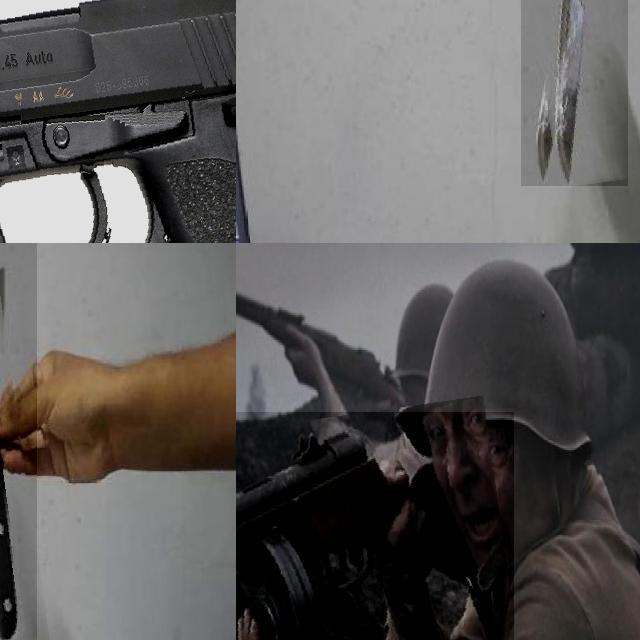-: (521, 0, 628, 186), (0, 243, 39, 640)
gun-knife-thesis - v11 Yolov5 augmented: (236, 412, 513, 640), (0, 0, 236, 243), (236, 243, 420, 436)
